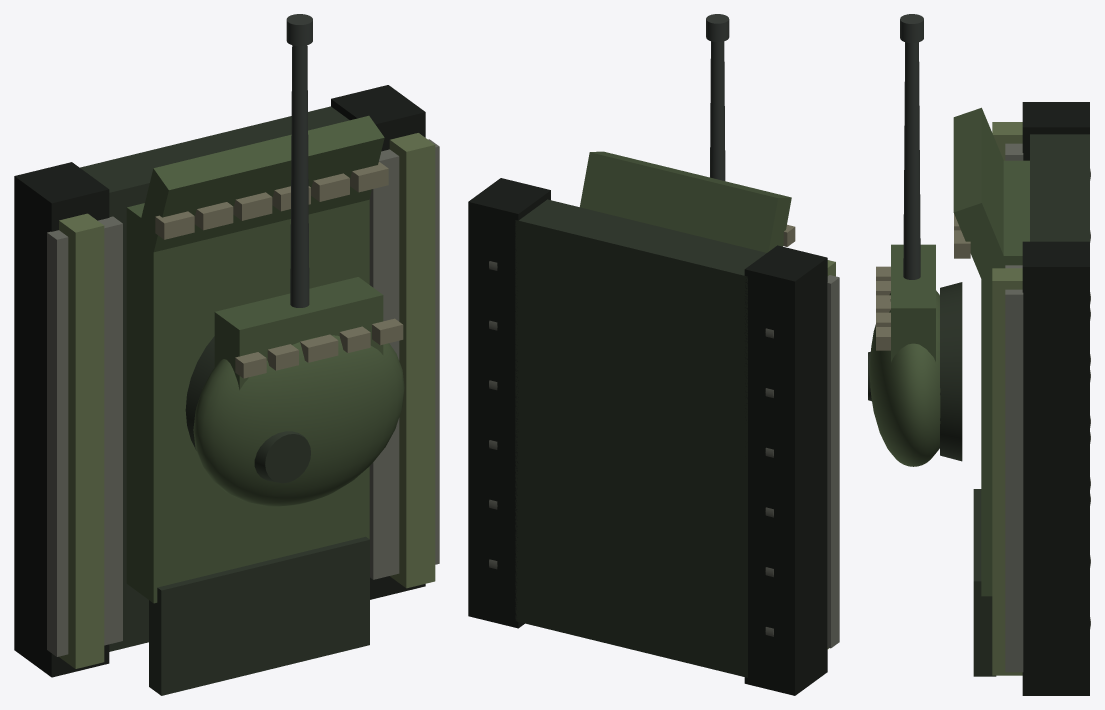
The picture shows the model from 3 angles, left to right: view 1: azimuth 30°, elevation 25°; view 2: azimuth 150°, elevation 25°; view 3: azimuth 270°, elevation 25°; orthographic projection. The views are drawn at different scales.
Visible parts, largest first — view 1: hull_upper_flat, rear_deck, low_domed_turret, left_track_rubber, left_track_guard, left_skirt, right_skirt, sharp_front_glacis, right_track_guard, hull_lower, turret_front_wedge, barrel_tube (+10 smaller); view 2: hull_lower, left_track_rubber, right_track_rubber, sharp_front_glacis, left_track_guard, barrel_tube, muzzle_collar; view 3: right_track_rubber, low_domed_turret, right_track_guard, sharp_front_glacis, hull_upper_flat, hull_lower, right_skirt, turret_front_wedge, turret_ring, barrel_tube, rear_deck, left_track_rubber (+4 smaller).
Boxes of the visible parts, bbox=[...] form: hull_upper_flat: bbox=[126, 199, 369, 603]; rear_deck: bbox=[149, 536, 369, 695]; low_domed_turret: bbox=[193, 335, 404, 506]; left_track_rubber: bbox=[14, 162, 109, 677]; left_track_guard: bbox=[47, 216, 122, 656]; left_skirt: bbox=[59, 213, 104, 668]; right_skirt: bbox=[389, 133, 435, 588]; sharp_front_glacis: bbox=[141, 115, 384, 252]; right_track_guard: bbox=[369, 139, 439, 579]; hull_lower: bbox=[80, 106, 349, 651]; turret_front_wedge: bbox=[214, 277, 383, 389]; barrel_tube: bbox=[290, 45, 309, 307]; hull_lower: bbox=[515, 199, 766, 677]; left_track_rubber: bbox=[744, 245, 827, 695]; right_track_rubber: bbox=[468, 178, 550, 628]; sharp_front_glacis: bbox=[580, 151, 791, 252]; left_track_guard: bbox=[827, 275, 839, 648]; barrel_tube: bbox=[710, 41, 725, 180]; muzzle_collar: bbox=[706, 14, 729, 41]; right_track_rubber: bbox=[1022, 241, 1089, 695]; low_domed_turret: bbox=[869, 290, 940, 466]; right_track_guard: bbox=[1005, 265, 1023, 672]; sharp_front_glacis: bbox=[953, 107, 1007, 294]; hull_upper_flat: bbox=[981, 160, 1029, 596]; hull_lower: bbox=[1030, 134, 1089, 241]; right_skirt: bbox=[992, 268, 1022, 675]; turret_front_wedge: bbox=[891, 244, 935, 362]; turret_ring: bbox=[940, 282, 962, 461]; barrel_tube: bbox=[903, 42, 920, 279]; rear_deck: bbox=[973, 489, 996, 676]; left_track_rubber: bbox=[1022, 102, 1089, 160].
Bounding box in the file's own units: 53.2 × 89.8 × 29.65.
